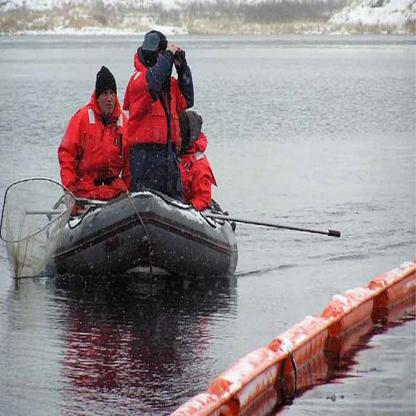face: (98, 83, 117, 116), (152, 44, 166, 75), (172, 126, 183, 154)
